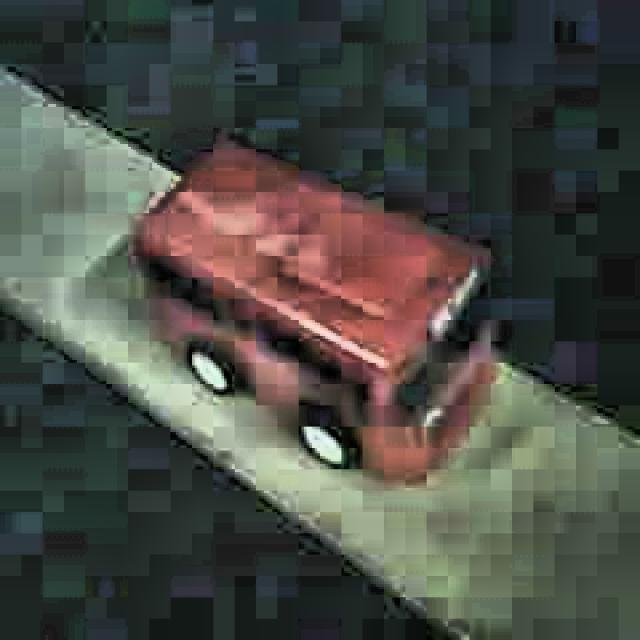bus: (129, 140, 493, 490)
